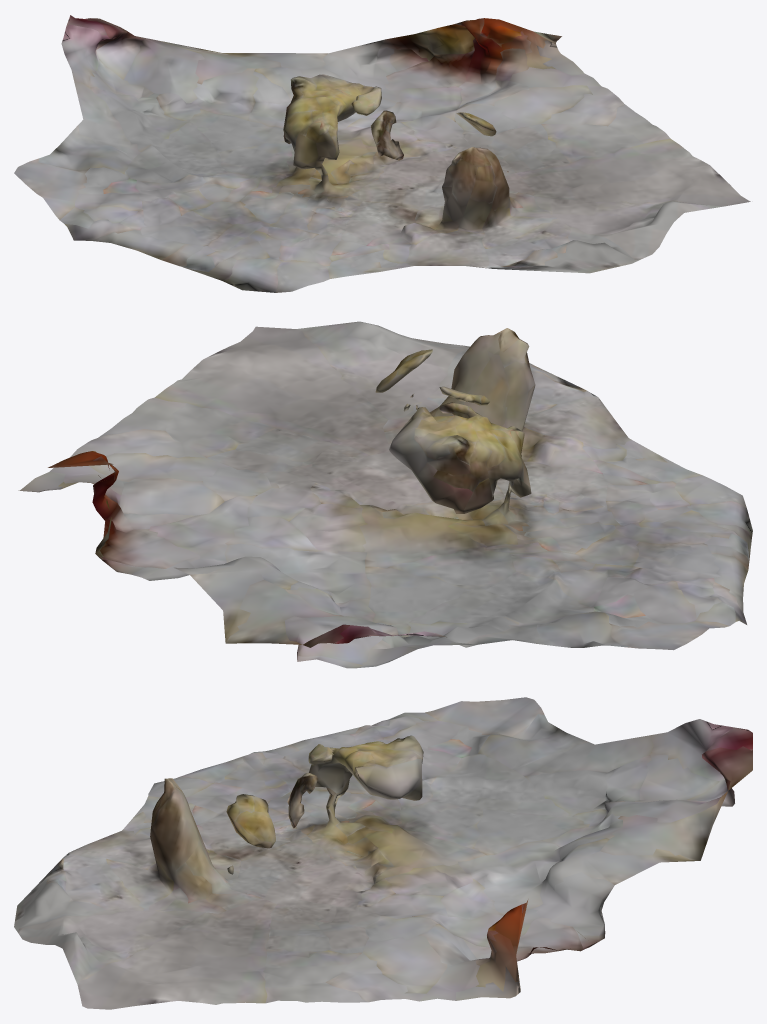
The model's file is hall.glb.
The picture shows the model from 3 angles, top to bottom: view 1: azimuth 30°, elevation 25°; view 2: azimuth 150°, elevation 25°; view 3: azimuth 270°, elevation 25°; orthographic projection. The views are drawn at different scales.
Size of the model in its own units: 3.5 by 0.6971 by 3.73.
1 material, 1 textured.
